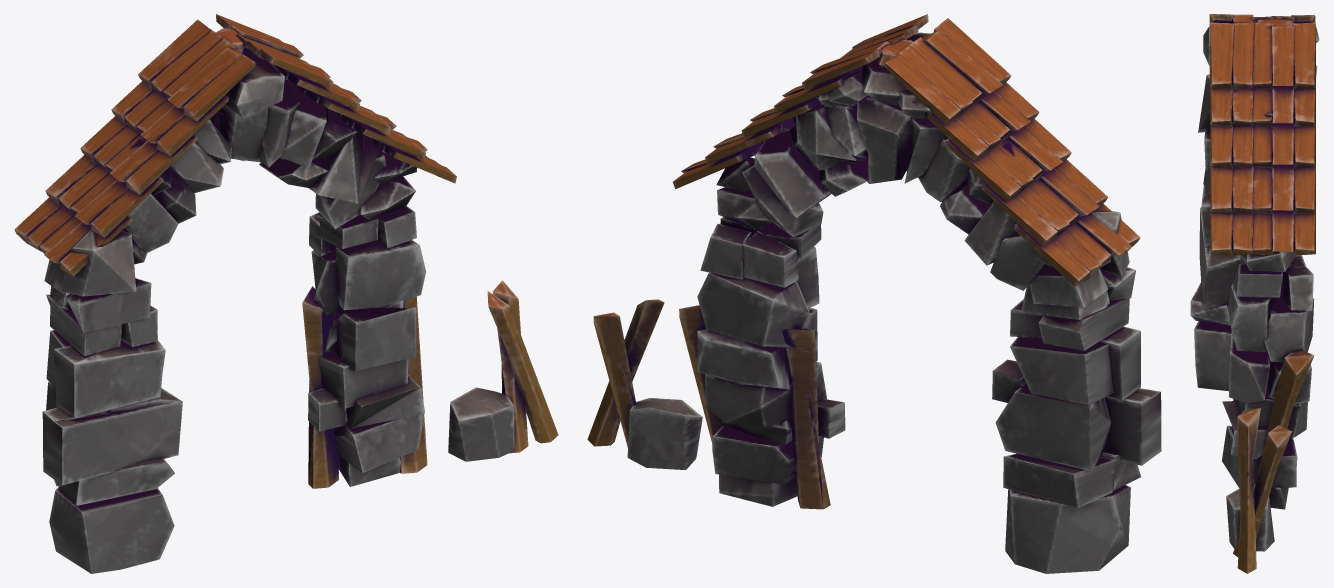
File: Gate.fbx
The picture shows the model from 3 angles, left to right: view 1: azimuth 30°, elevation 25°; view 2: azimuth 150°, elevation 25°; view 3: azimuth 270°, elevation 25°; orthographic projection. The views are drawn at different scales.
Parts seen in each view (by area): view 1: EA03_Gate_Rock_01a_LOD0; view 2: EA03_Gate_Rock_01a_LOD0; view 3: EA03_Gate_Rock_01a_LOD0.
Boxes of the visible parts, <box> form: EA03_Gate_Rock_01a_LOD0: <box>14,14,558,573</box>; EA03_Gate_Rock_01a_LOD0: <box>587,14,1161,573</box>; EA03_Gate_Rock_01a_LOD0: <box>1190,14,1319,573</box>.
Bounding box in the file's own units: 7.78 × 1.86 × 6.65.
1 material, 1 textured.
